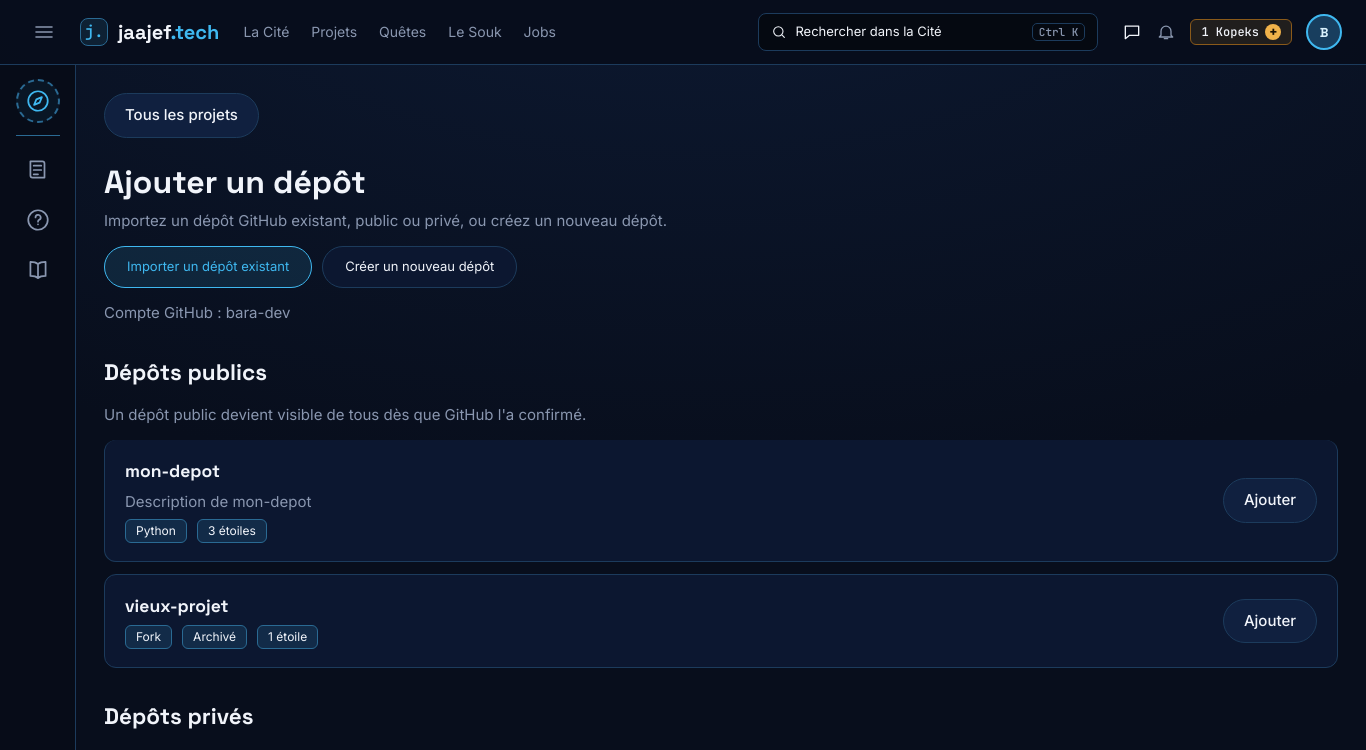
Test case: Import a project › adds a repository with its name, GitHub address and description, then shows it as waiting
Click the button with aria-label "Ajouter : mon-depot": (1270, 501) left=1223, top=478, right=1317, bottom=523
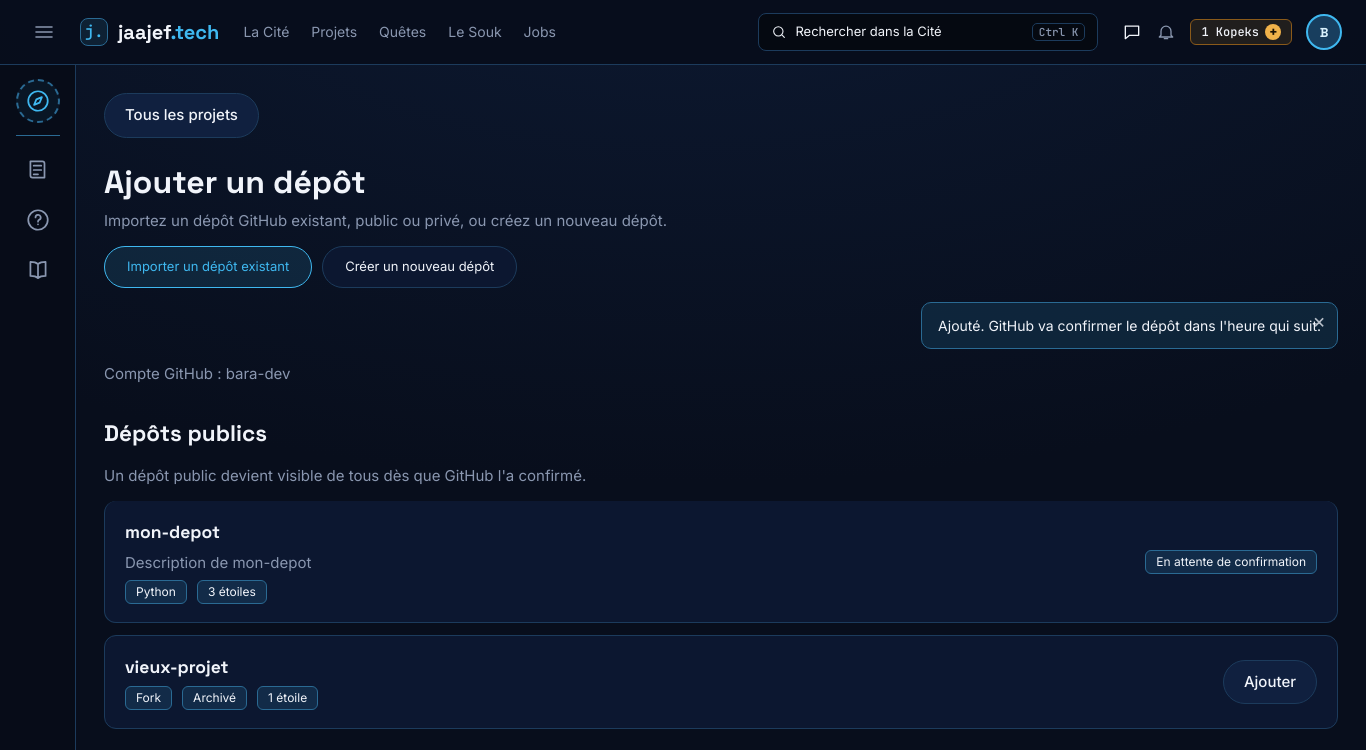
Expected: the button with aria-label "Ajouter : vieux-projet" is shown, left=1223, top=660, right=1317, bottom=704
Expected: the text "En attente de confirmation" is shown, left=1145, top=550, right=1317, bottom=574
Expected: the text "Ajouté. GitHub va confirmer le dépôt dans l'heure qui suit." is shown, left=921, top=302, right=1338, bottom=348
